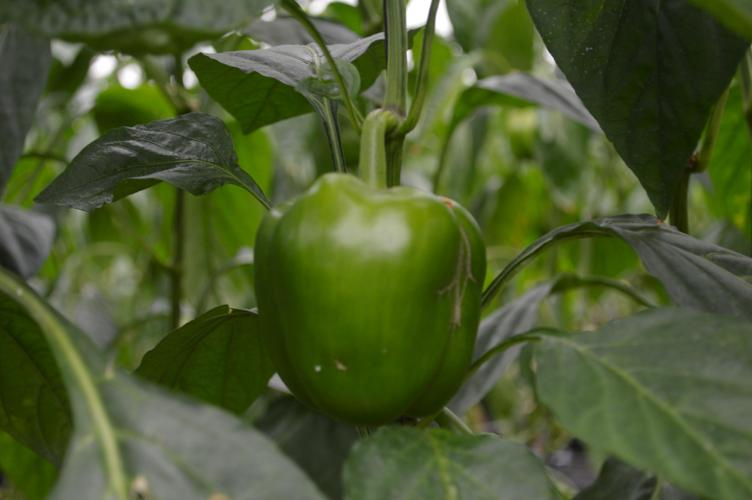BellPepper: (251, 169, 488, 417)
